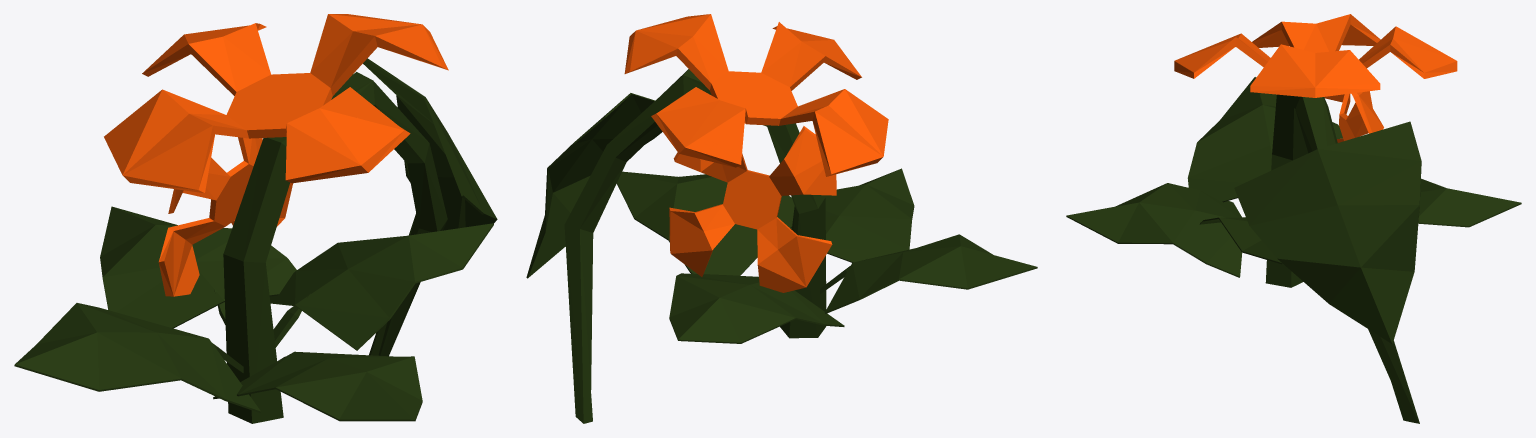
File: PumpkinPlant_Stage02.obj
The picture shows the model from 3 angles, left to right: view 1: azimuth 30°, elevation 25°; view 2: azimuth 150°, elevation 25°; view 3: azimuth 270°, elevation 25°; orthographic projection. The views are drawn at different scales.
Parts seen in each view (by area): view 1: PumpkinPlant_Stage02_Sphere.002; view 2: PumpkinPlant_Stage02_Sphere.002; view 3: PumpkinPlant_Stage02_Sphere.002.
Part boxes in pixels (box(x1,y1,x2,y2)): PumpkinPlant_Stage02_Sphere.002: box(14, 14, 497, 423); PumpkinPlant_Stage02_Sphere.002: box(526, 14, 1037, 423); PumpkinPlant_Stage02_Sphere.002: box(1066, 14, 1521, 423).
Size of the model in its own units: 4.49 by 3.62 by 4.22.
